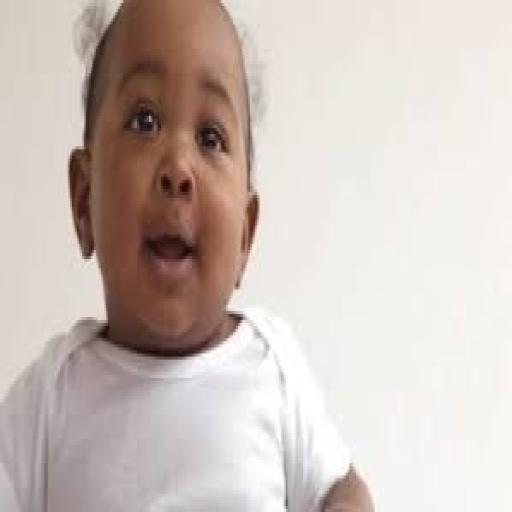laughing: (0, 0, 378, 506)
